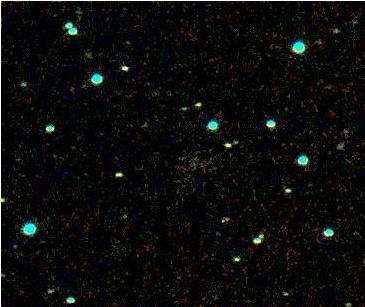star: (205, 206, 235, 236)
